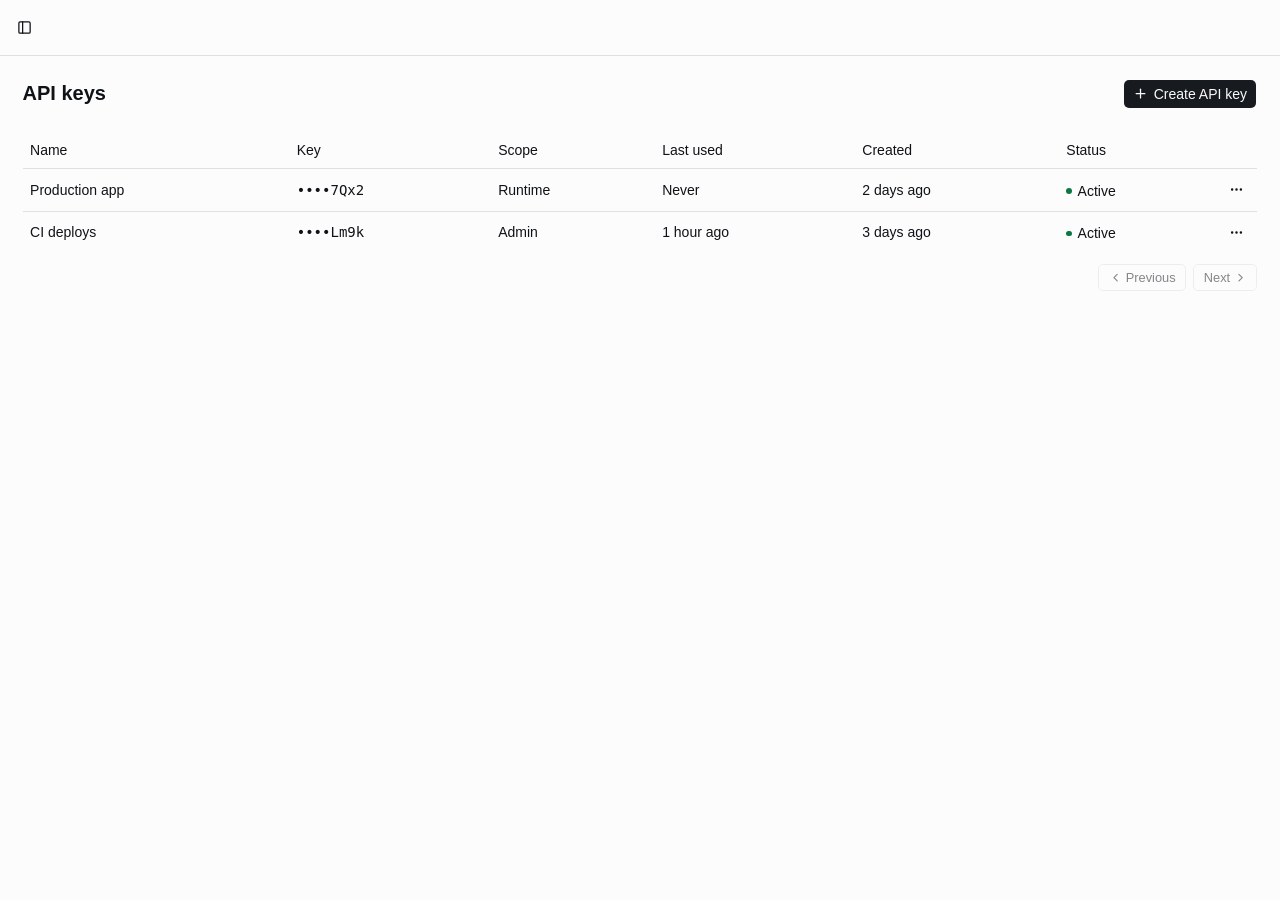
revoke asks for confirmation and updates the row
This screenshot has width=1280, height=900.
Click the button named "Row actions" in the row of "Production app".
click(1237, 190)  # box [1224,177,1250,203]
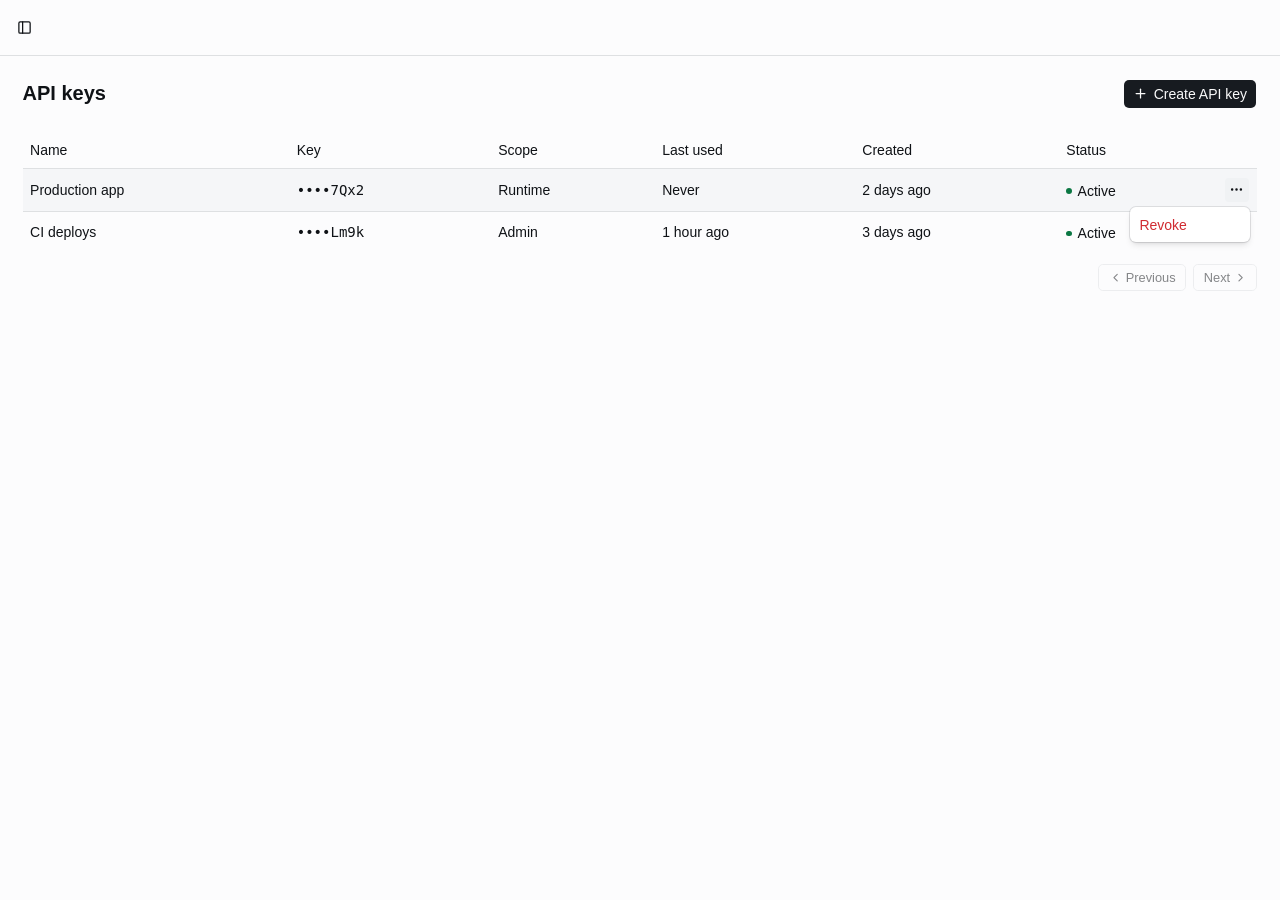
Click the menu item "Revoke".
click(1163, 224)  # box [1139,216,1187,232]
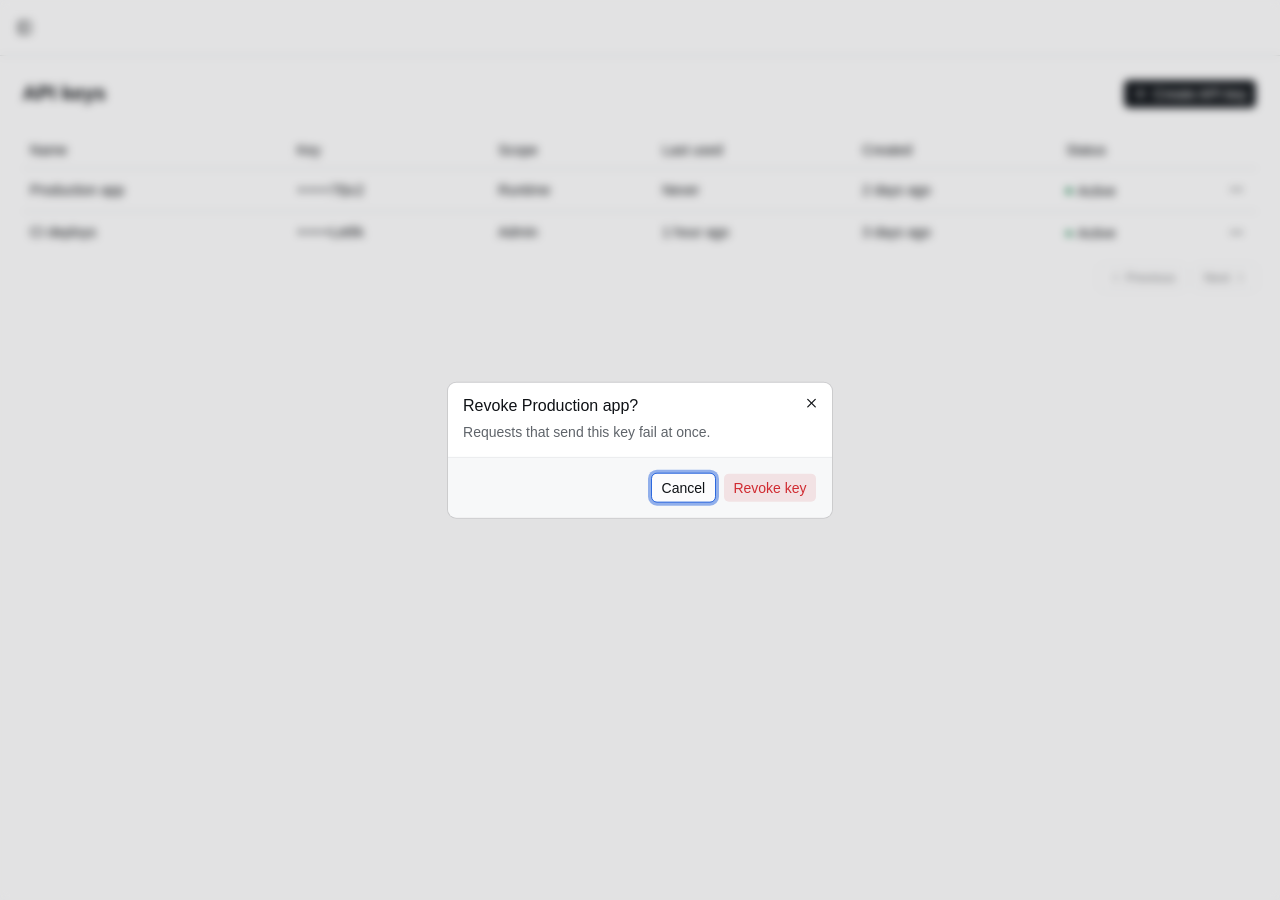
Click the button "Revoke key".
click(770, 487)  # box [723,472,817,502]
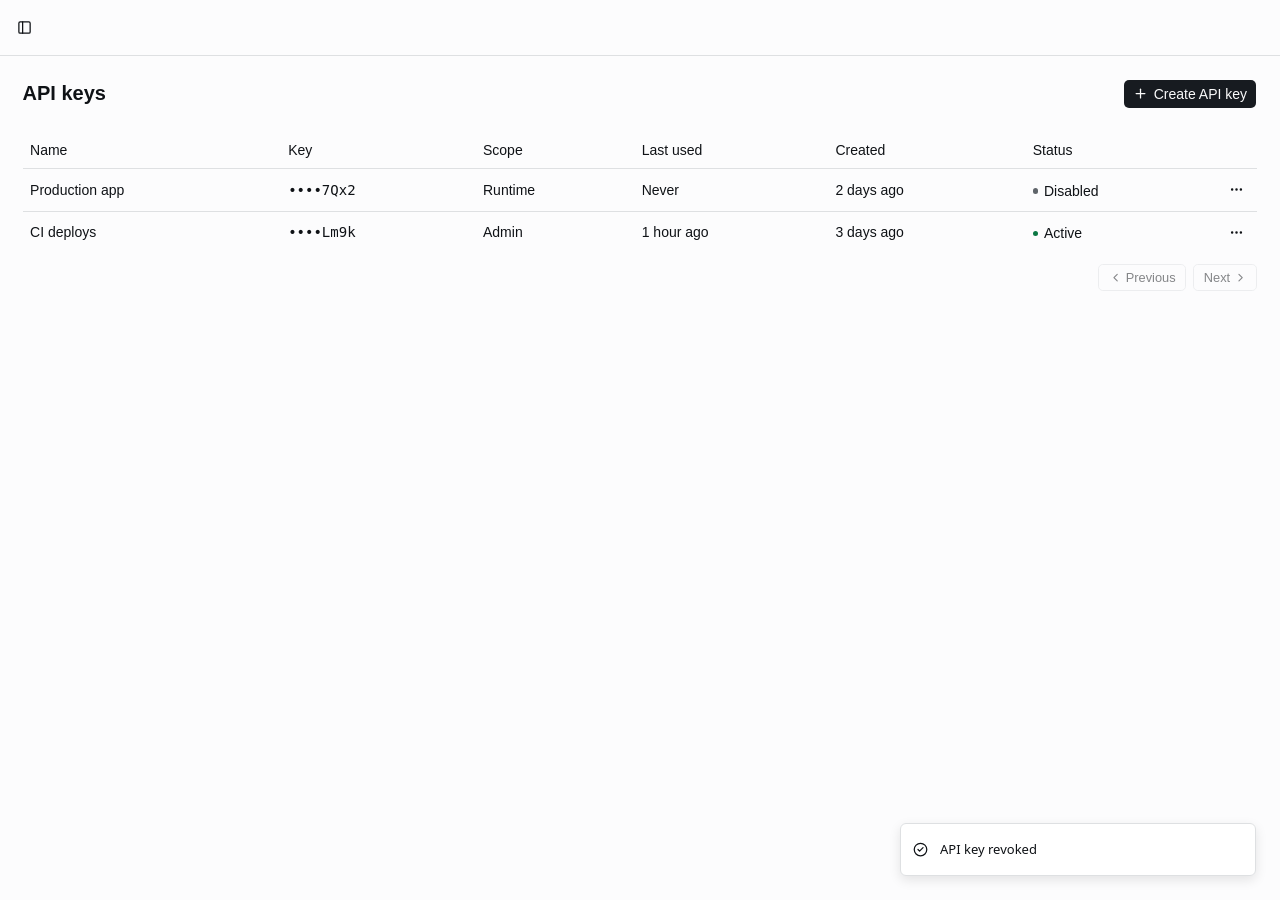
Expected: the text "Active" is shown, [1033,223,1082,243]
Now the dialog is gone
Now the text "Disabled" is shown, box [1033,181,1098,201]
